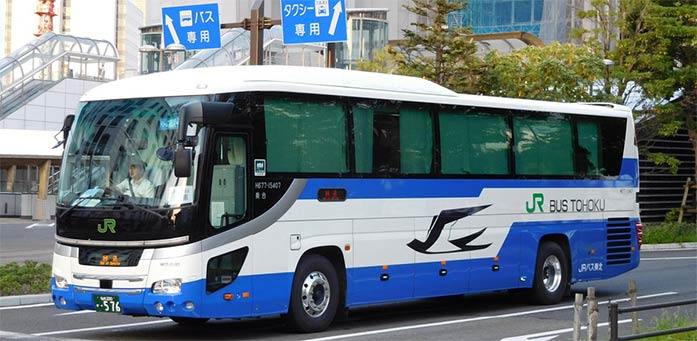bus: (45, 64, 645, 332)
